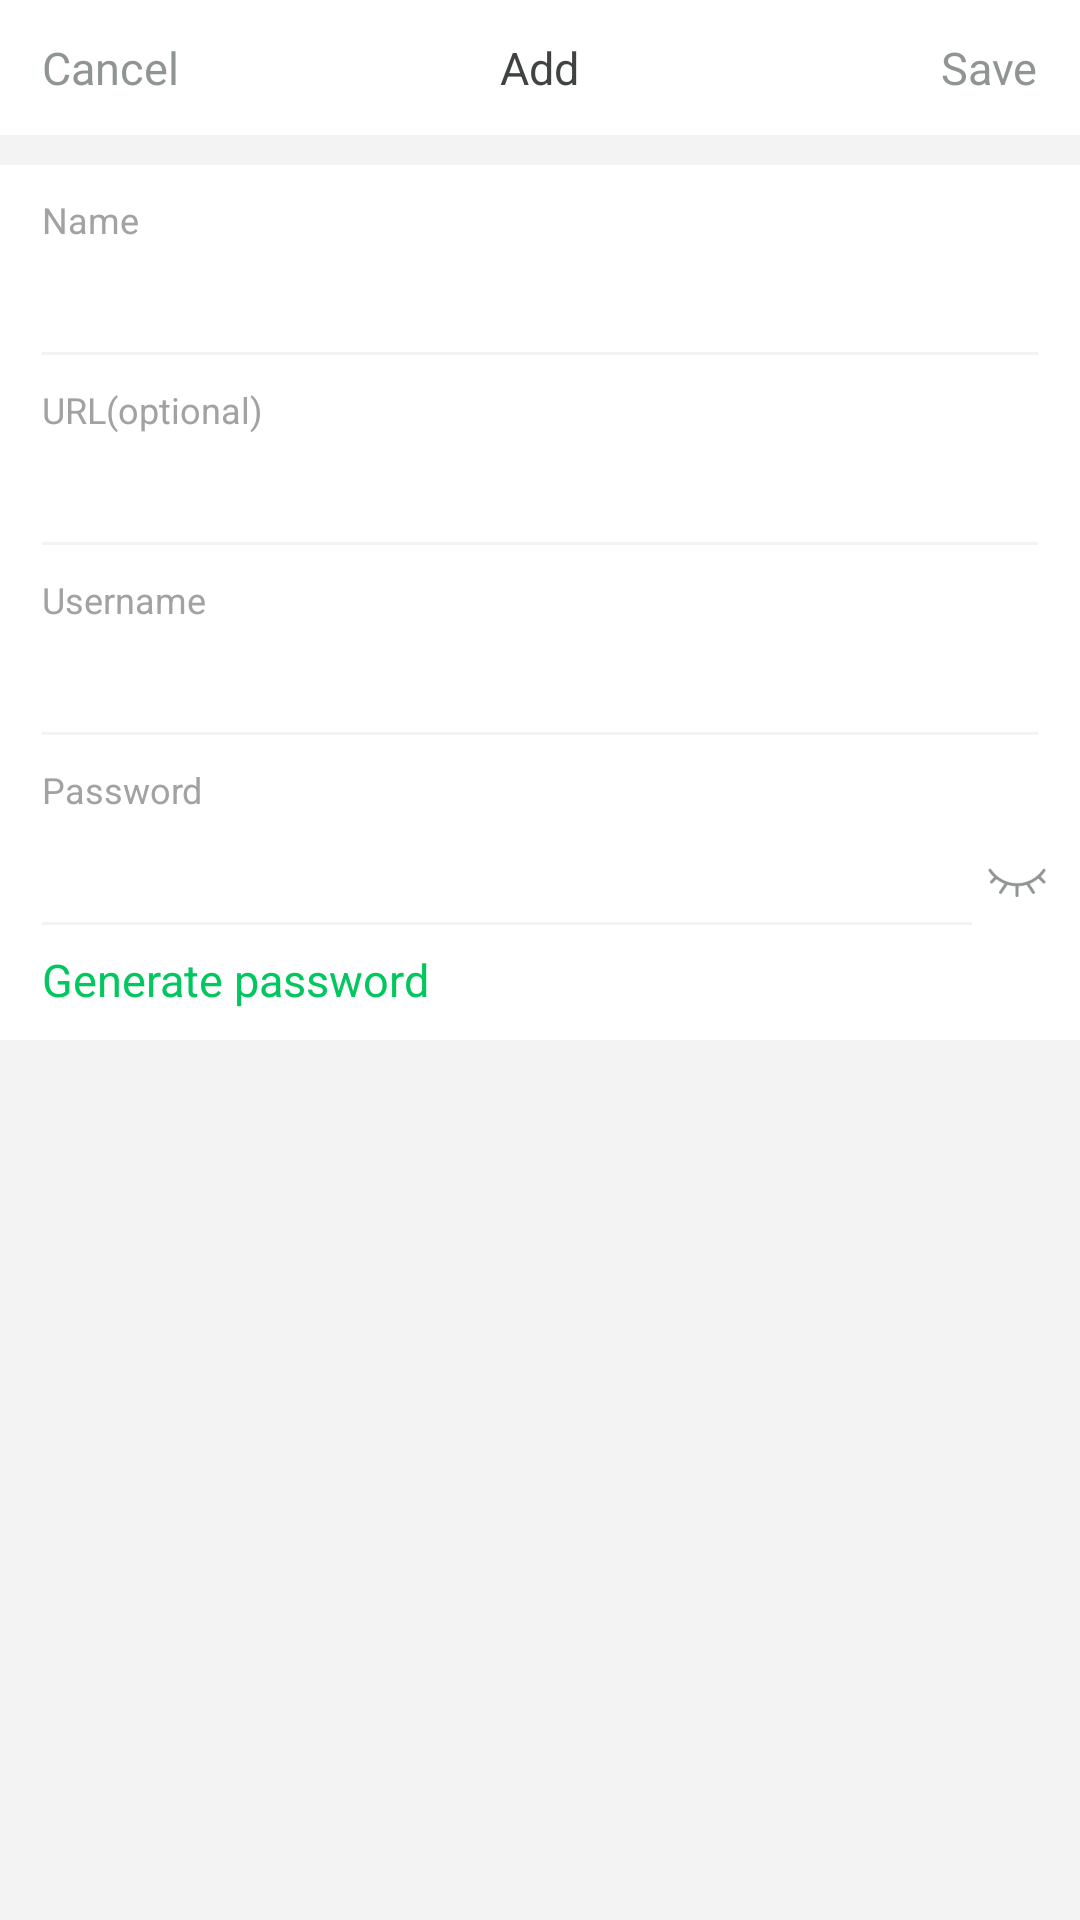

Screen size 1080px×1920px. Icon name, then its center in pixels as [x,y]:
eye close: [1017,882]
